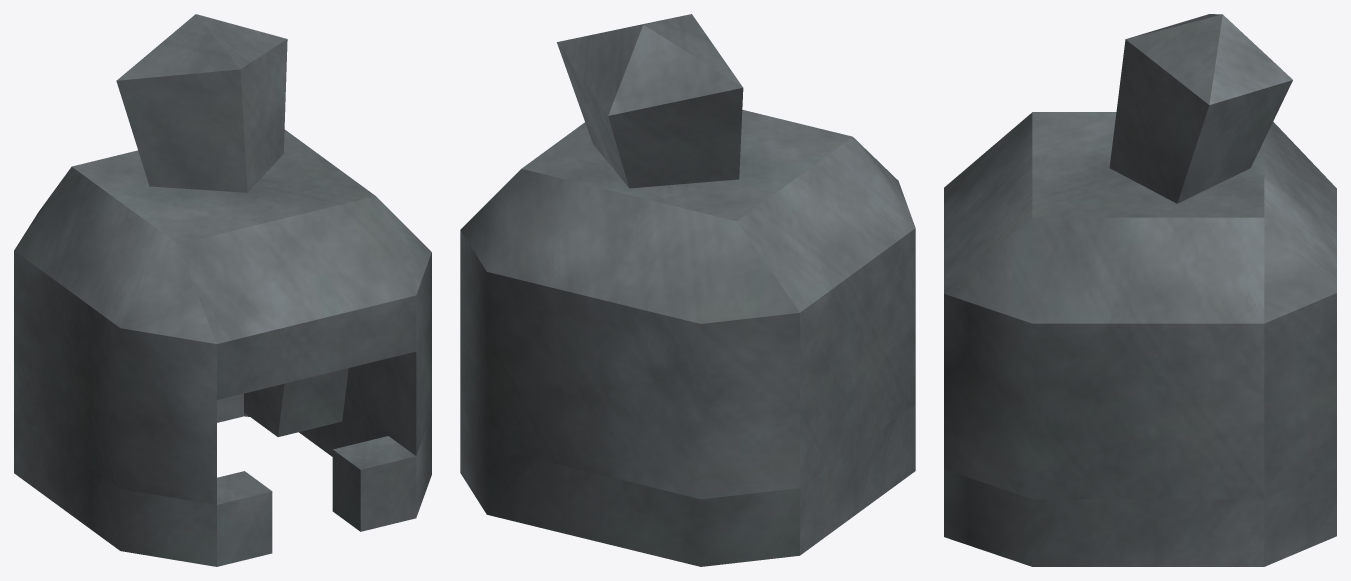
Rendered from enemyhat-concept-1.fbx.
The picture shows the model from 3 angles, left to right: view 1: azimuth 30°, elevation 25°; view 2: azimuth 150°, elevation 25°; view 3: azimuth 270°, elevation 25°; orthographic projection. The views are drawn at different scales.
Parts seen in each view (by area): view 1: headwear_helmet, blade_skew; view 2: headwear_helmet, blade_skew; view 3: headwear_helmet, blade_skew.
Boxes of the visible parts, left/top/right/bottom form: headwear_helmet: left=14, top=129, right=431, bottom=566; blade_skew: left=116, top=14, right=287, bottom=192; headwear_helmet: left=460, top=109, right=915, bottom=566; blade_skew: left=557, top=14, right=743, bottom=188; headwear_helmet: left=944, top=112, right=1336, bottom=566; blade_skew: left=1109, top=14, right=1292, bottom=203.
Size of the model in its own units: 2.8 by 3.72 by 2.8.
Materials: 1 (1 with a texture image).
